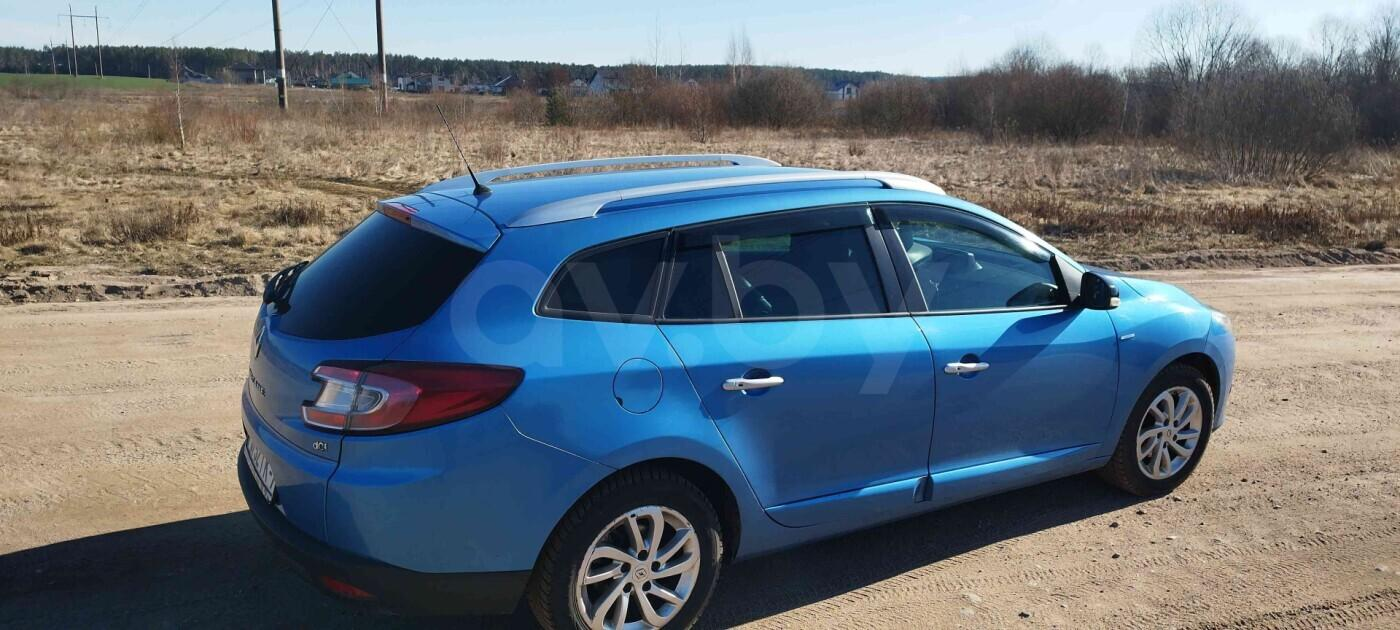Megane_2014-2016: (244, 169, 1233, 630)
